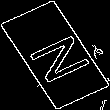N_NE: (17, 25, 93, 85)
